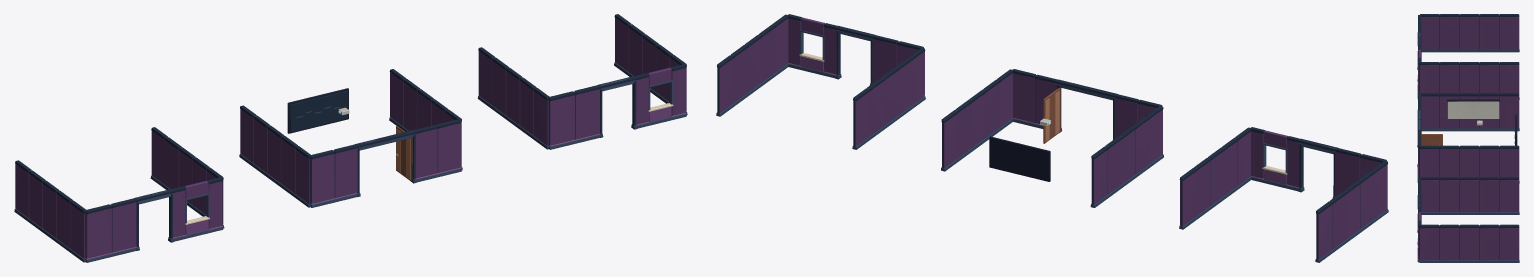
File: rooms.glb
3 views of the same model, side by side, from view 1: azimuth 30°, elevation 25°; view 2: azimuth 150°, elevation 25°; view 3: azimuth 270°, elevation 25° (orthographic). The views are drawn at different scales.
Parts seen in each view (by area): view 1: rooms; view 2: rooms; view 3: rooms.
Boxes of the visible parts, x1,y1,x2,y2 form: rooms: (14, 14, 687, 262); rooms: (716, 14, 1388, 262); rooms: (1417, 14, 1519, 262).
Bounding box in the file's own units: 44.33 × 3.6 × 9.02.
